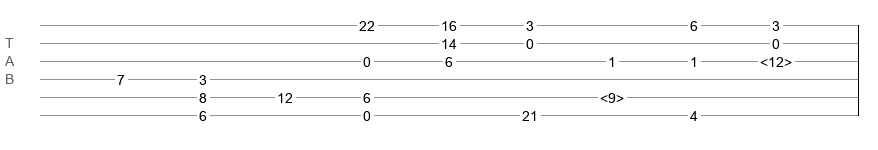0: (363, 54, 371, 64), (363, 108, 371, 118), (526, 36, 534, 46), (772, 36, 780, 46)
1: (608, 54, 616, 64), (690, 54, 698, 64)
12: (277, 90, 293, 100)
14: (441, 36, 457, 46)
16: (441, 18, 457, 28)
21: (522, 108, 538, 118)
22: (359, 18, 375, 28)
3: (199, 72, 207, 82), (526, 18, 534, 28), (772, 18, 780, 28)
4: (690, 108, 698, 118)
6: (199, 108, 207, 118), (363, 90, 371, 100), (445, 54, 453, 64), (690, 18, 698, 28)
7: (117, 72, 125, 82)
8: (199, 90, 207, 100)
harmonic: (760, 54, 792, 64), (600, 90, 624, 100)
